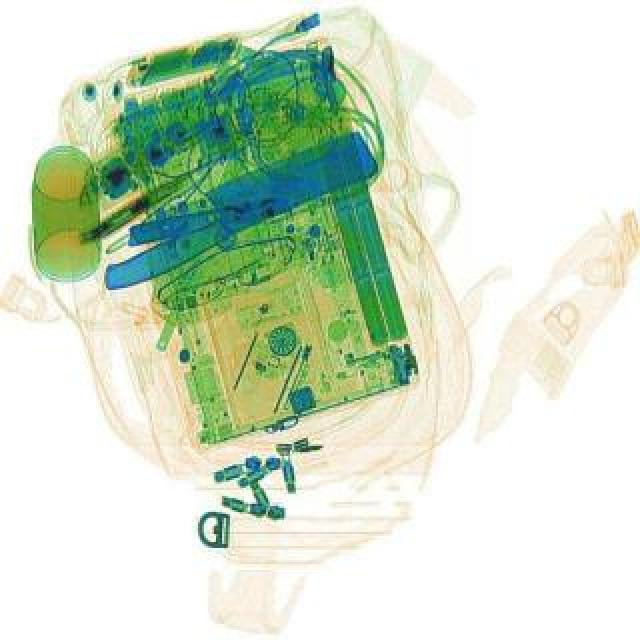knife: (84, 124, 382, 294)
